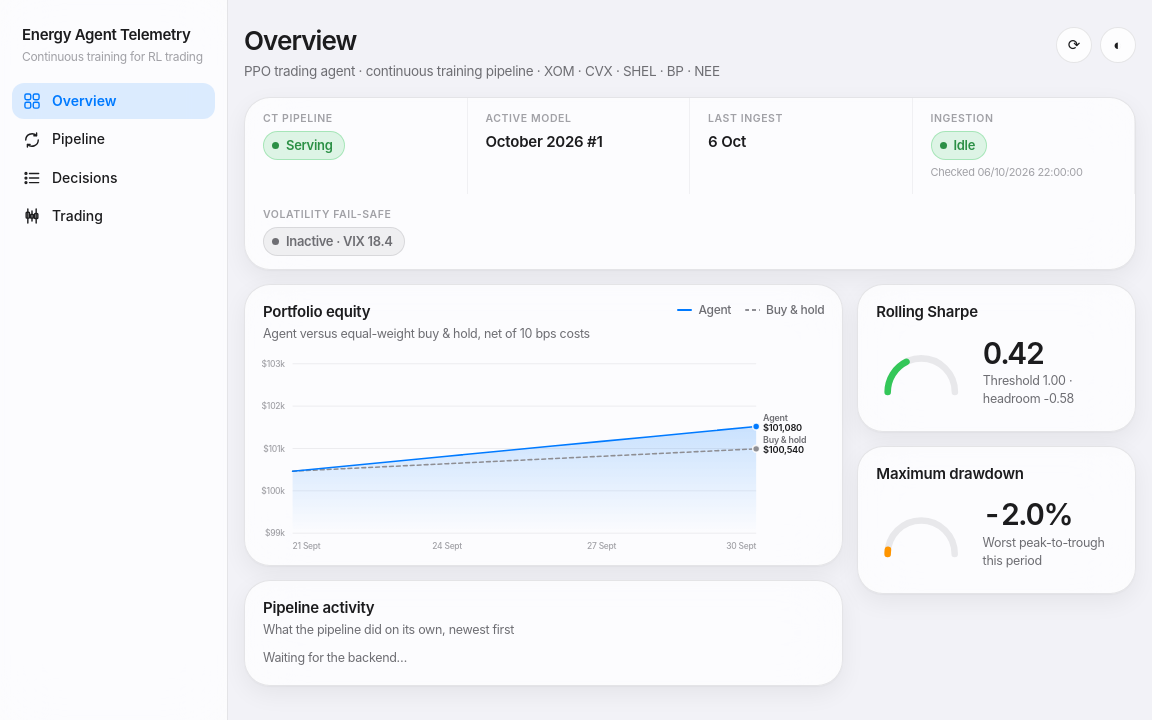
Test: decision-detail sheet › shows the decision → version → run → partition chain (NFR-07) and closes on Escape
This screenshot has width=1152, height=720.
Click the link "Decisions" at (70, 178), box [22,168,117,188]
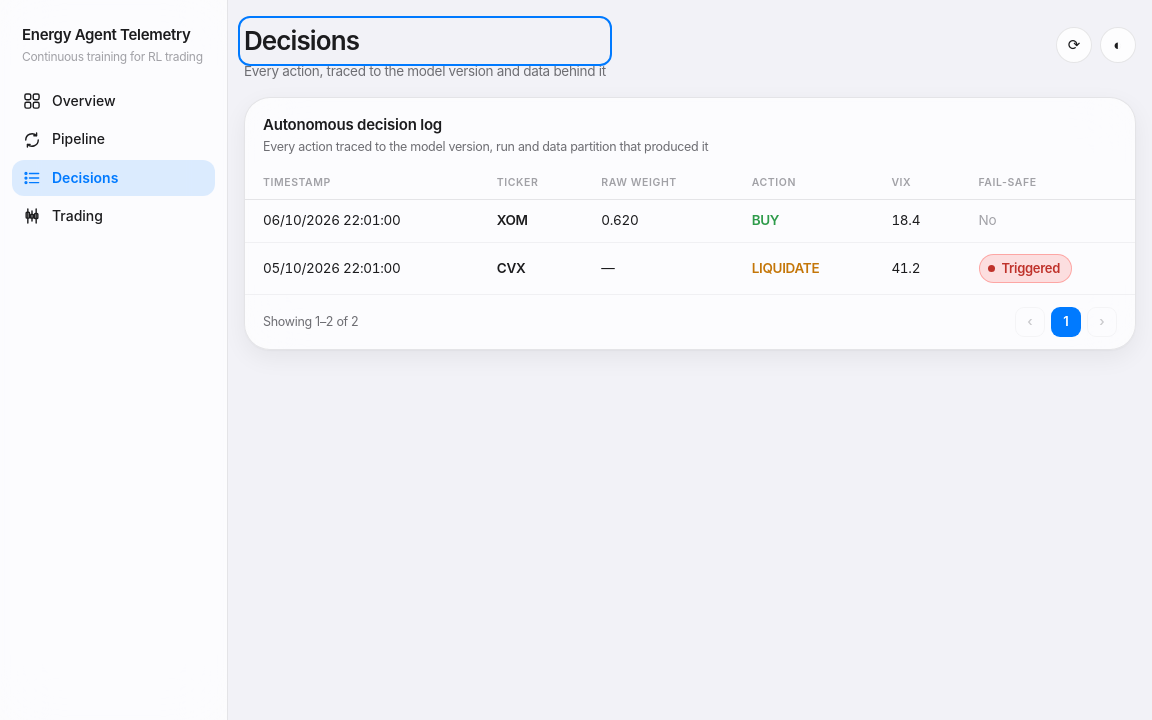
Click the text "XOM" at (531, 221), box [479,200,583,242]
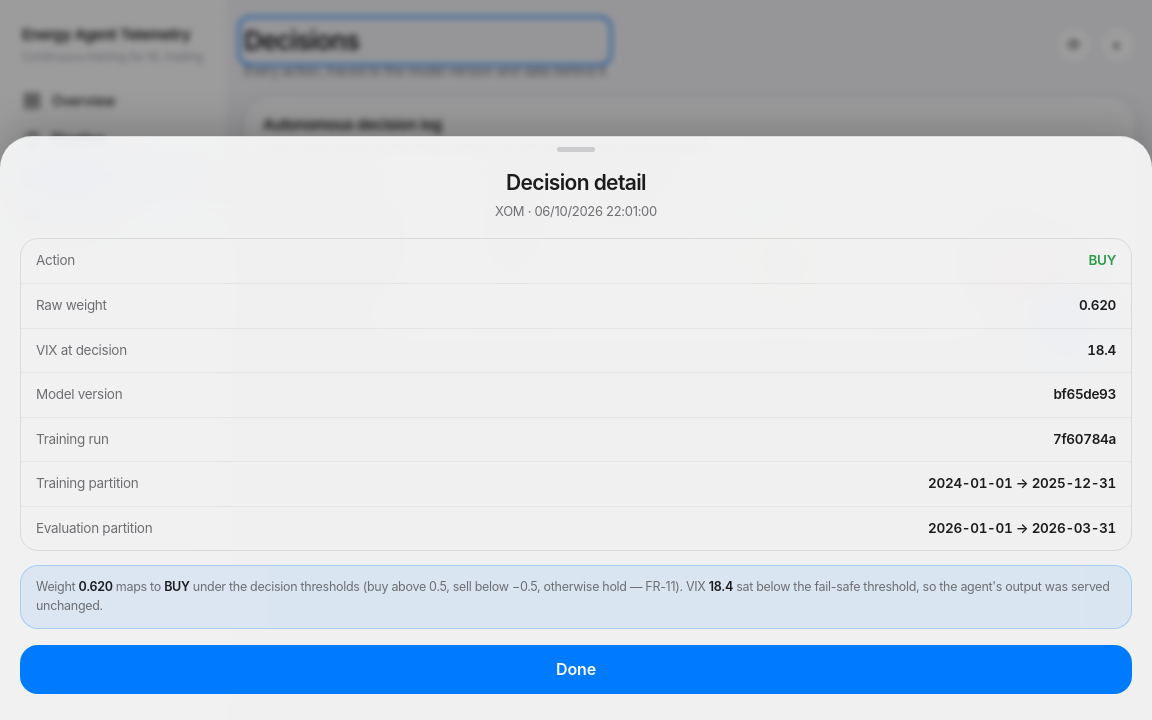
Expected: the text "bf65de93" is shown, [1053,386,1116,402]
Expected: the text "7f60784a" is shown, [1053,431,1116,447]
Expected: the text "2024-01-01 → 2025-12-31" is shown, [928,475,1116,491]
Press Escape
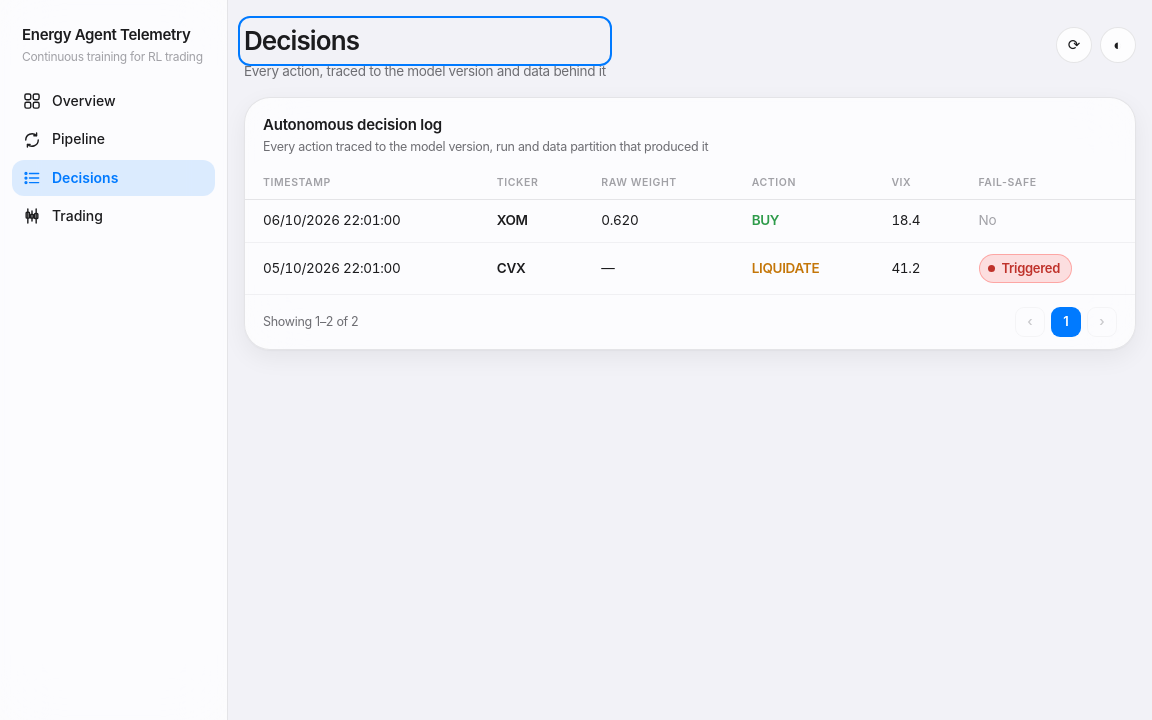
Expected: the dialog is gone
